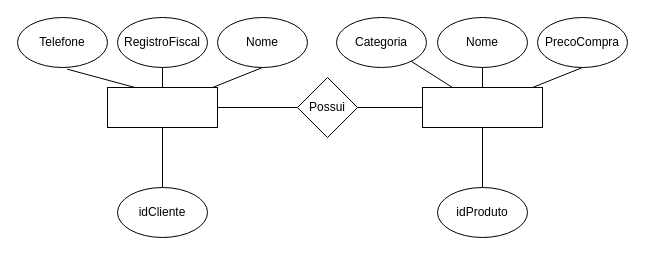
Image size: 645x255. Some labels were removed from this diagram. The shapes that lost their labels are listed below. From the top down, each one's centre as x and y in pixels, then its label:
At point 162,107: "Cliente".
At point 482,107: "Produto".
